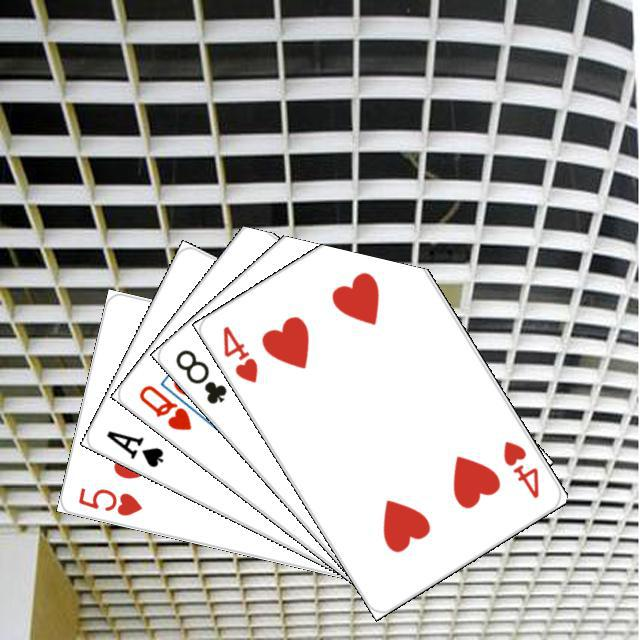4h: (217, 321, 260, 385), (498, 436, 541, 500)
5h: (73, 483, 144, 518)
8c: (170, 344, 229, 406)
As: (101, 425, 165, 470)
Qh: (133, 380, 194, 433)
